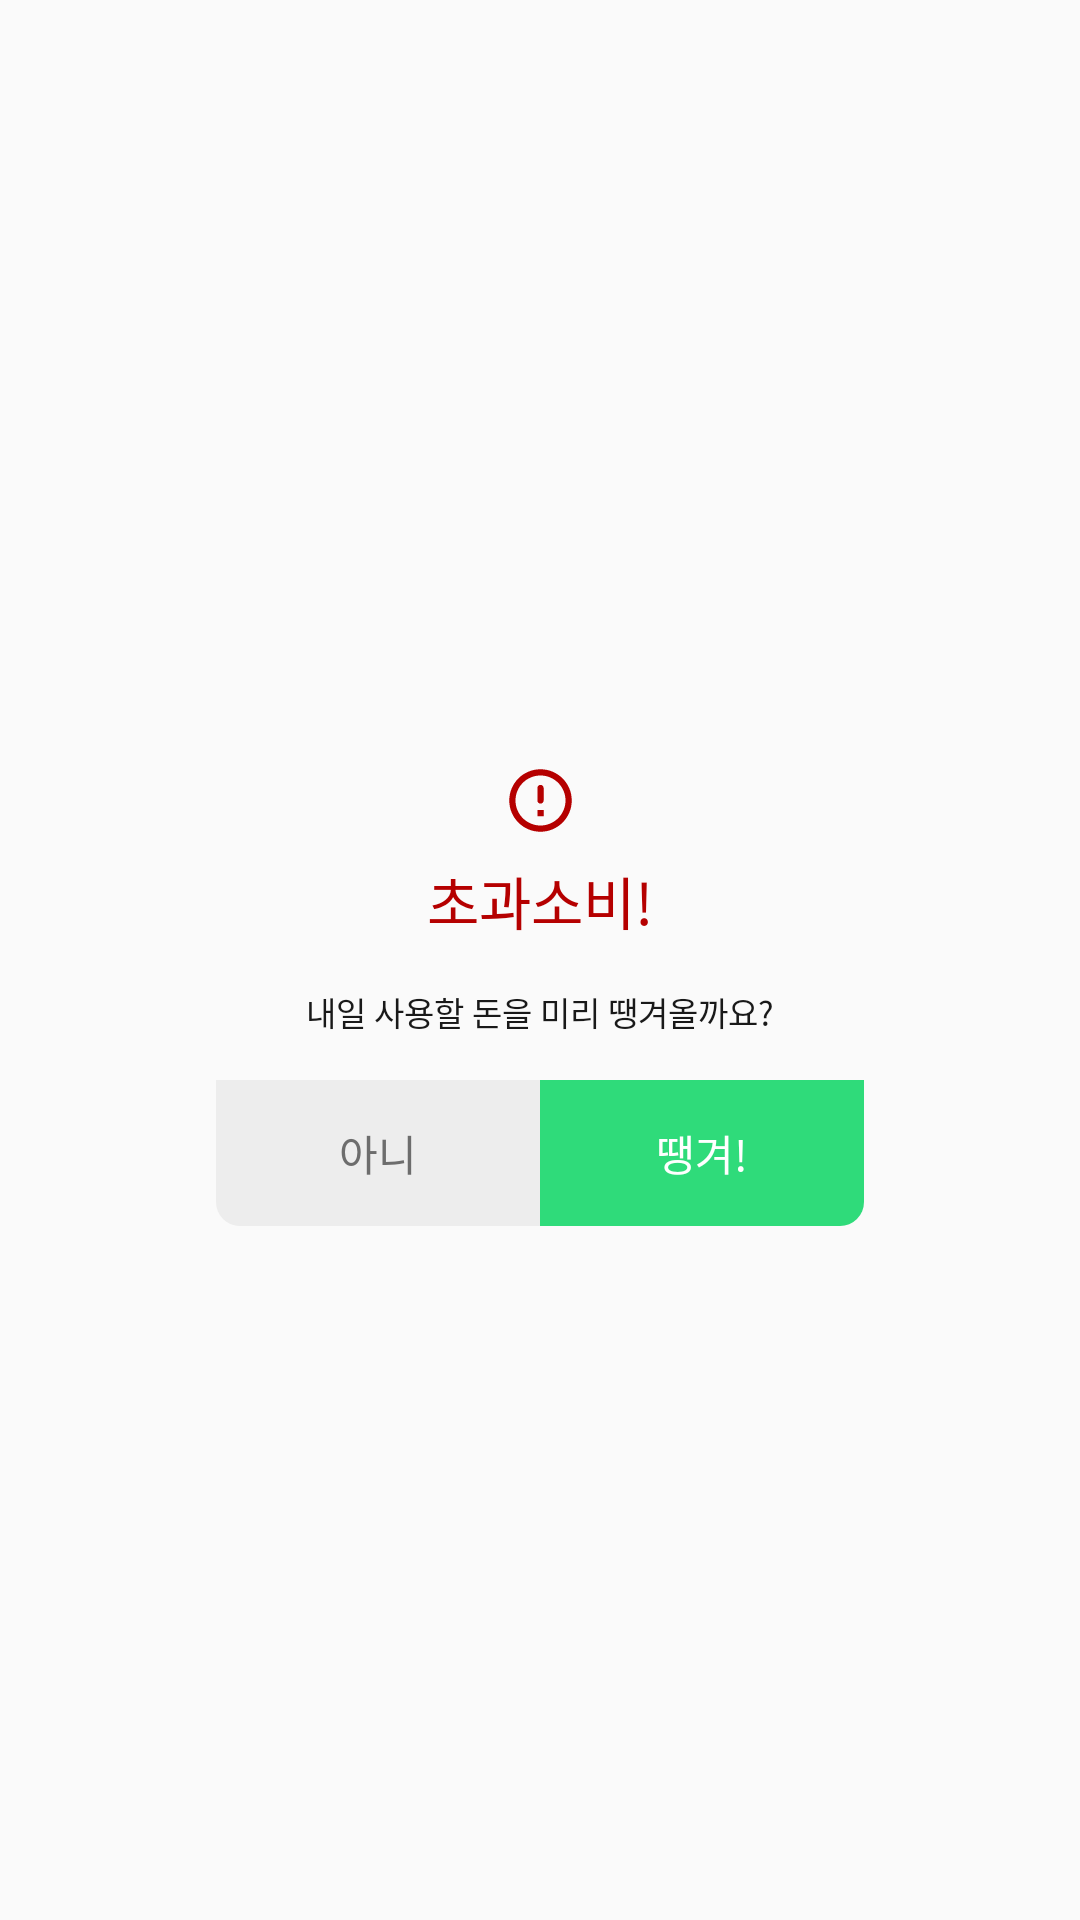

Icons on this 1080w x 1920h Android screen, each with the point to tap as point (x, y):
error: point (540, 800)
